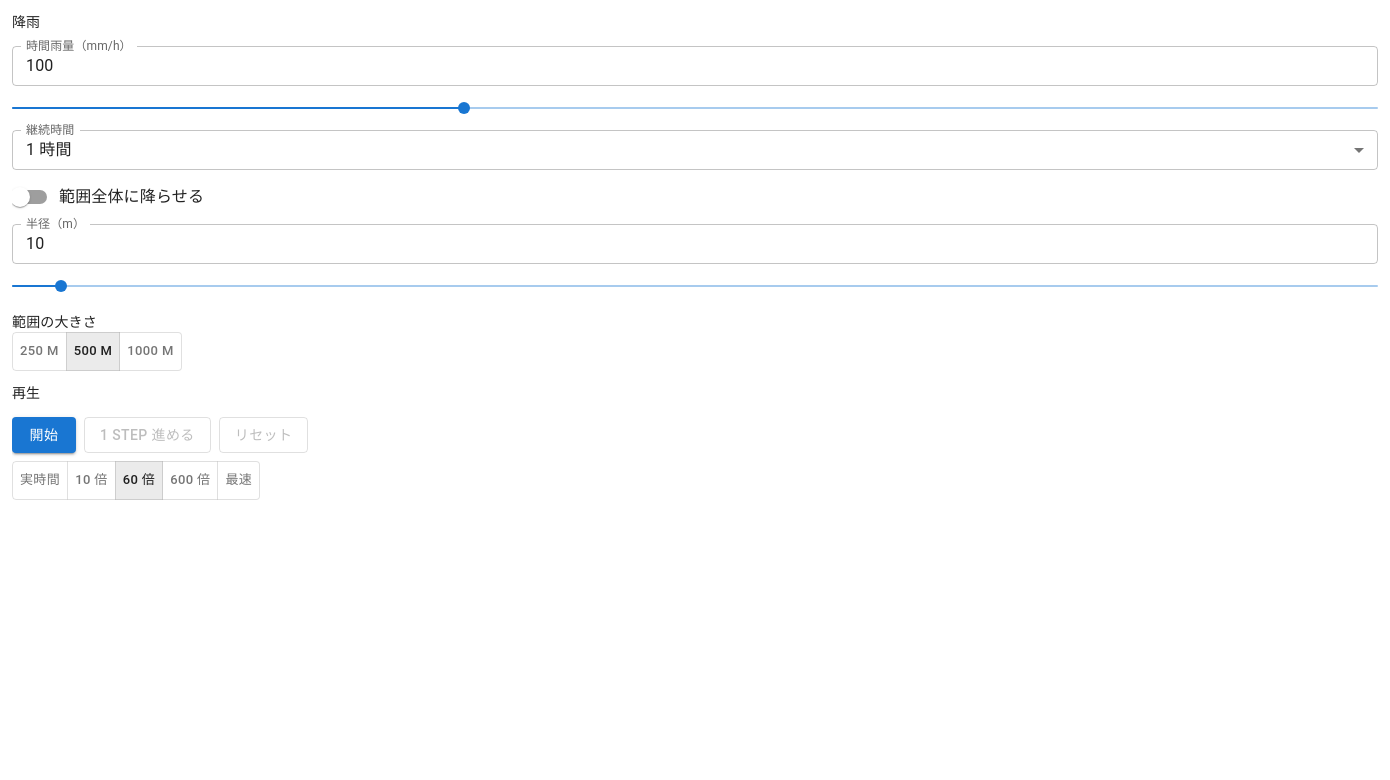
Test: ControlsSection: 再生の操作 › 自動停止したら、主ボタンと「1 step 進める」は押せず、「リセット」だけを押せる
Click the button "開始". click: (44, 435)
box: [12, 417, 76, 453]
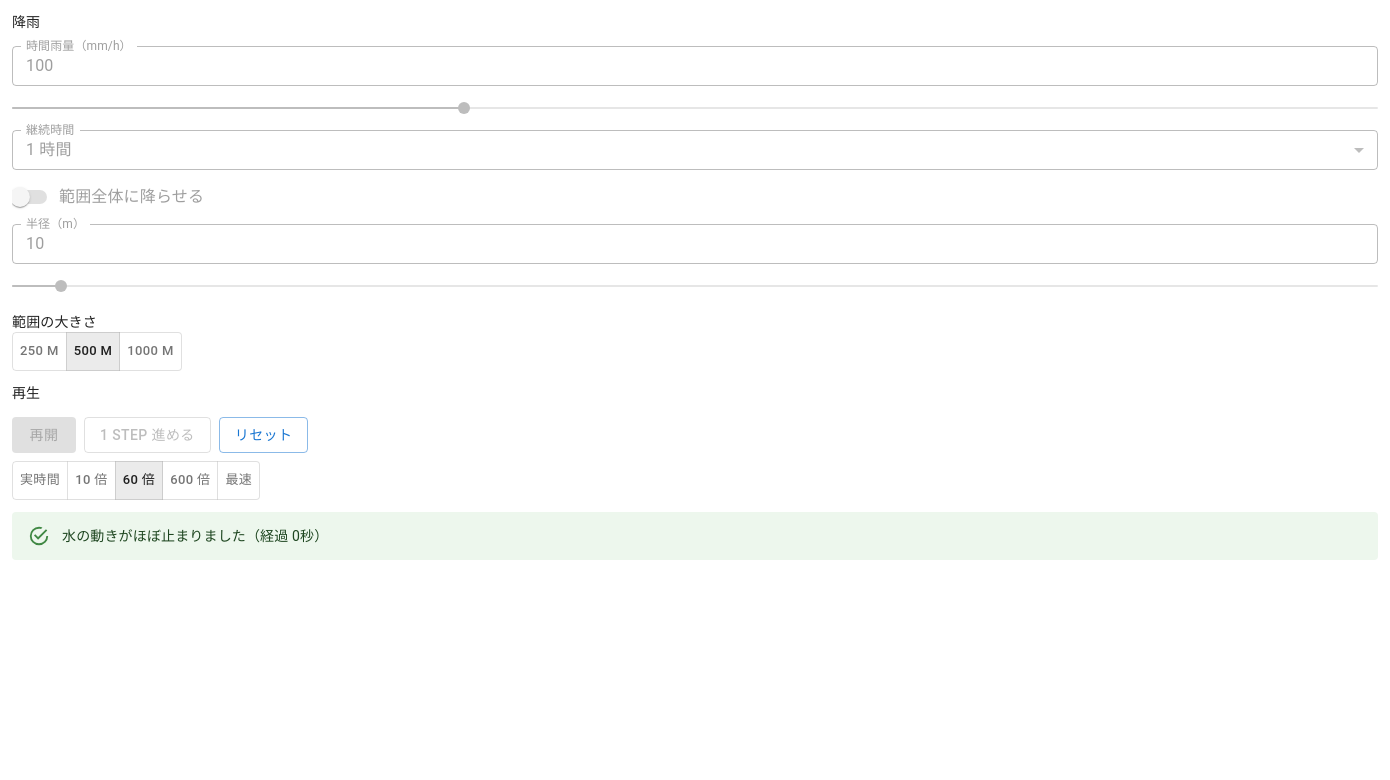
Check: the button "1 step 進める" is disabled, box [84, 417, 211, 453]
Check: the button "リセット" is enabled, box [219, 417, 308, 453]
